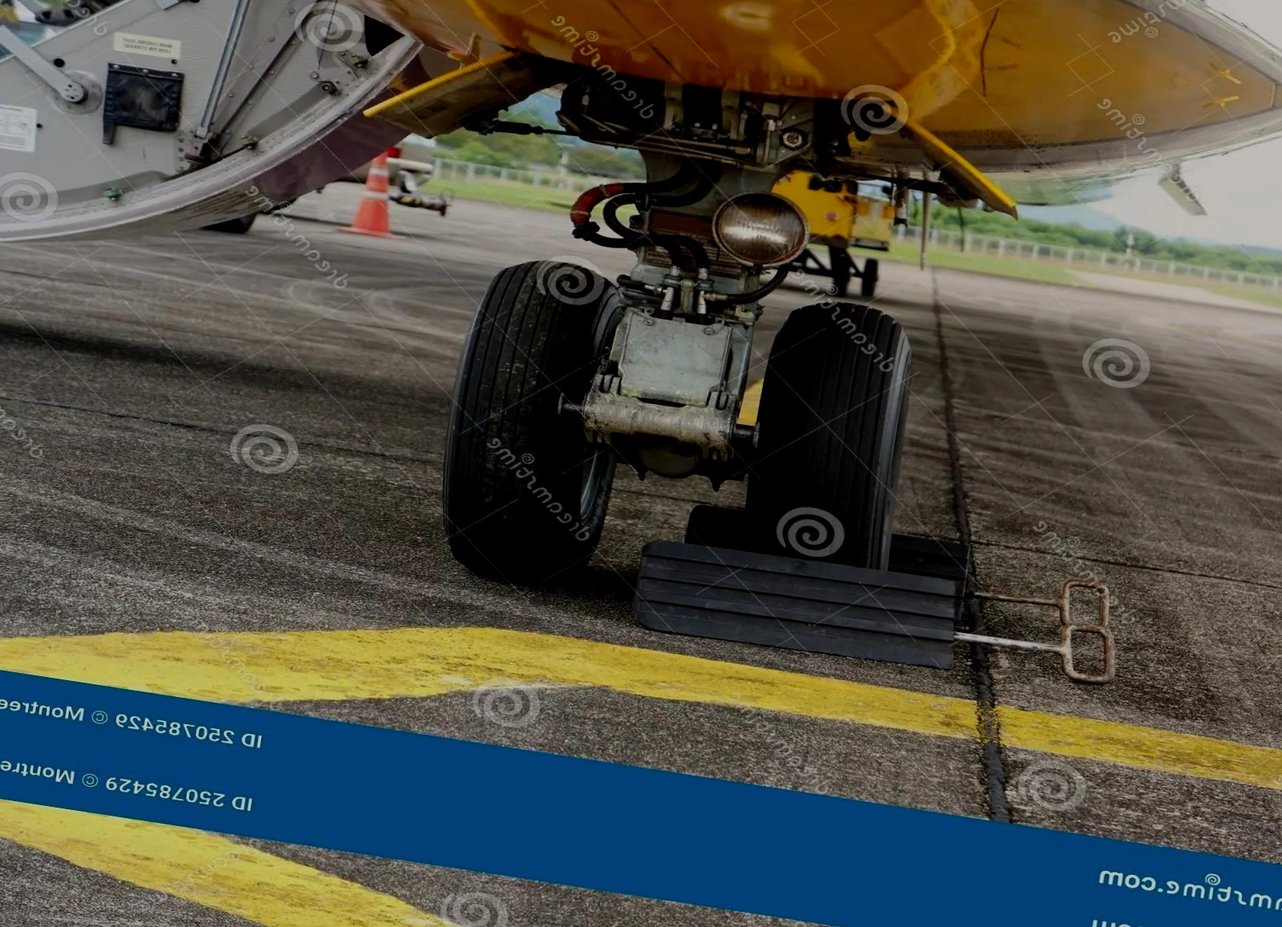chock: (624, 534, 968, 673), (679, 497, 984, 588)
wheel: (433, 252, 649, 589), (734, 289, 923, 570)
